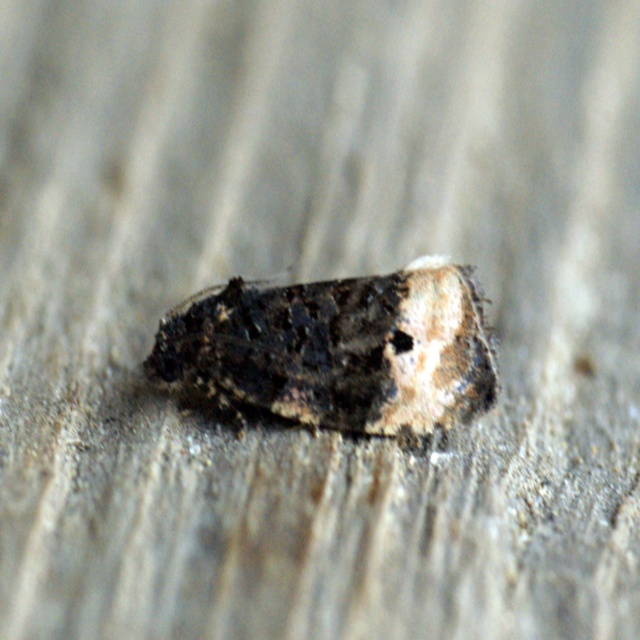Moths and butterflies: (142, 251, 503, 455)
